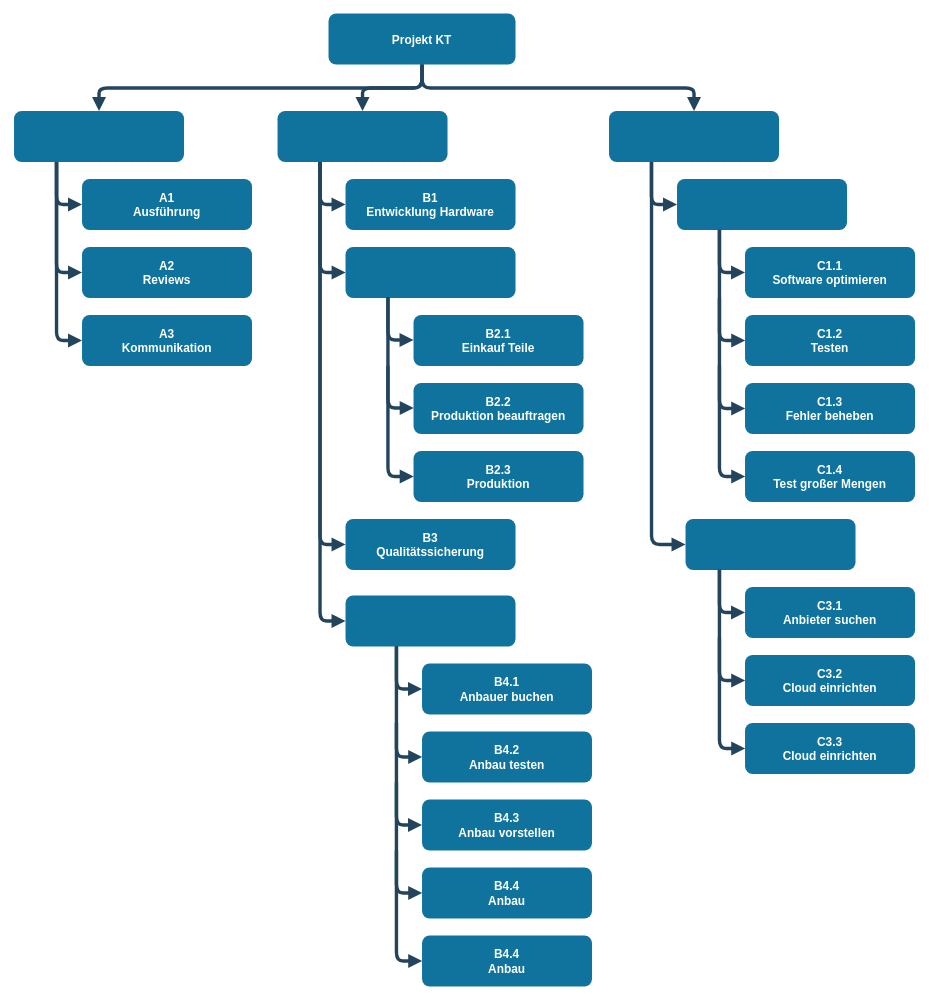
Image size: 929x1000. Some labels were removed from this diagram. The box of each missing label's shape, as (x1, y1, x2, y2) in pixels:
A Projektmanager: (14, 110, 184, 162)
B CONTRAC-Hardware: (277, 110, 447, 162)
B2 Produktion: (345, 246, 515, 298)
B4 Anbau: (345, 595, 515, 646)
C CONSERV: (609, 110, 779, 162)
C1 Patch-Software: (677, 178, 847, 230)
C3 Cloud: (685, 518, 855, 570)
